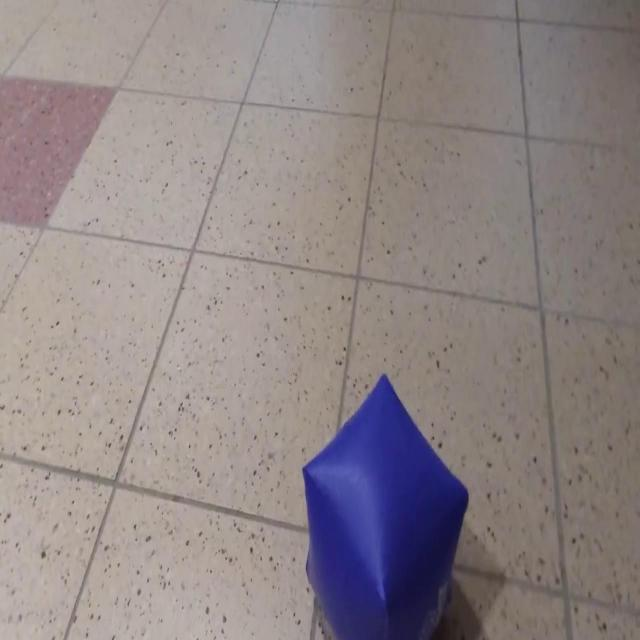frc_cube: (301, 372, 469, 640)
